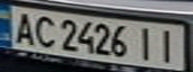2: (54, 16, 78, 52), (90, 20, 112, 56)
4: (75, 19, 96, 55)
6: (109, 21, 133, 60)
A: (9, 9, 39, 46)
C: (30, 12, 57, 48)
I: (154, 26, 184, 63), (133, 24, 160, 62)
